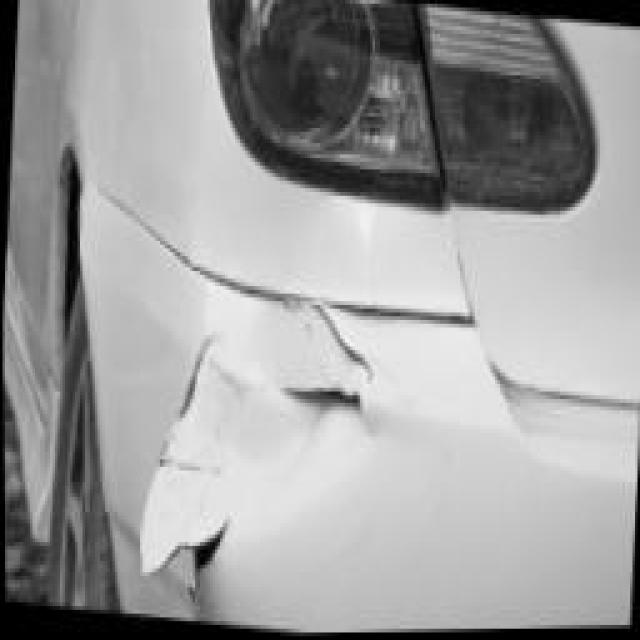Bumper: (88, 267, 463, 635)
